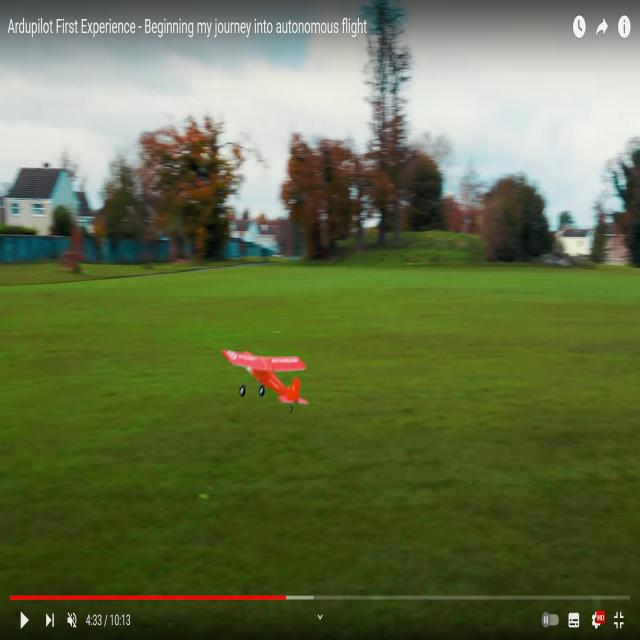iha: (252, 345, 271, 409)
